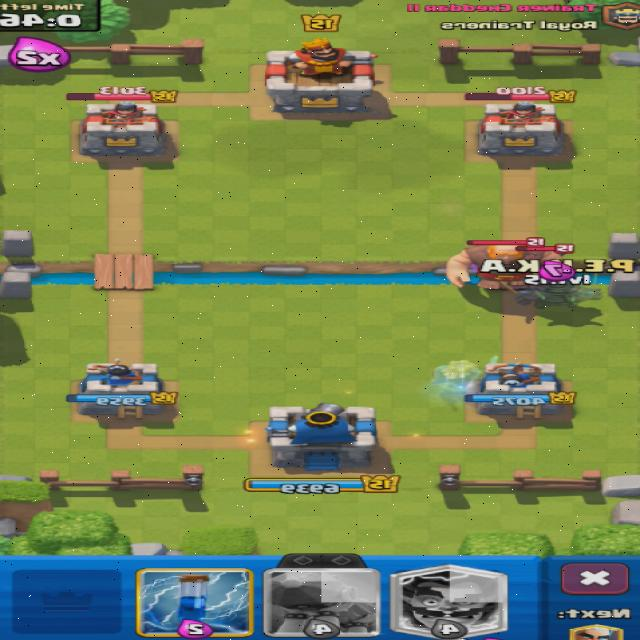Enemy-Giant: (449, 243, 558, 289)
Enemy-KingTower: (266, 38, 374, 113)
Enemy-PrincessTower: (479, 102, 565, 155), (80, 103, 165, 156)
Player-KingTower-Activated: (266, 403, 378, 471)
Player-PrincessTower: (465, 363, 577, 418), (74, 359, 163, 418)
Player-RoyalGhost: (432, 360, 483, 390), (489, 356, 498, 364)
